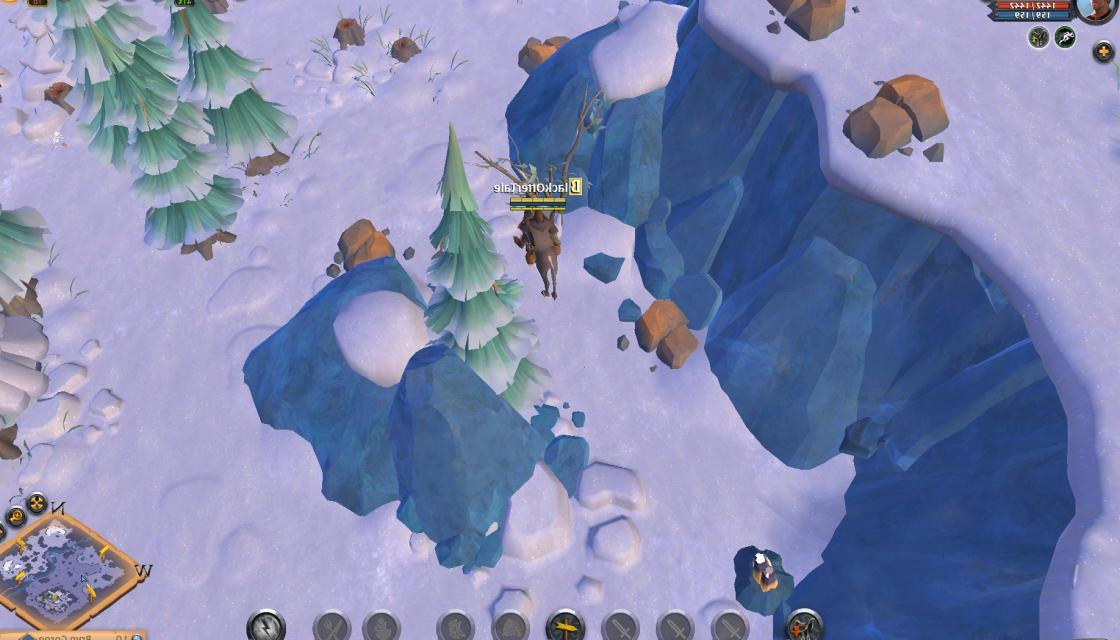limestone: (842, 70, 952, 171), (632, 294, 704, 368), (762, 0, 853, 45), (336, 210, 398, 274), (513, 30, 573, 74)
